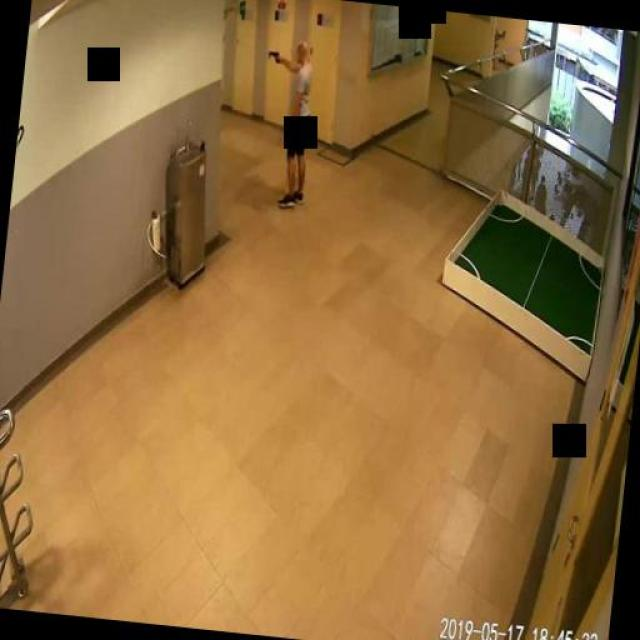gun: (268, 48, 280, 64)
